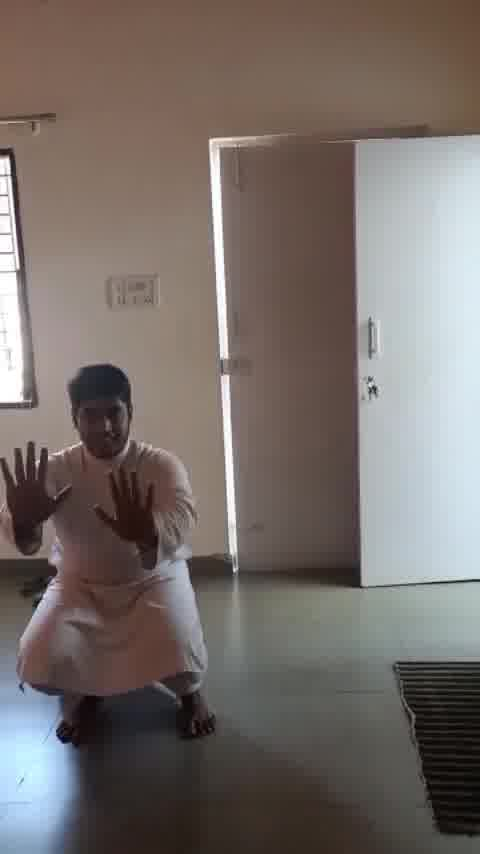duck: (7, 362, 247, 753)
